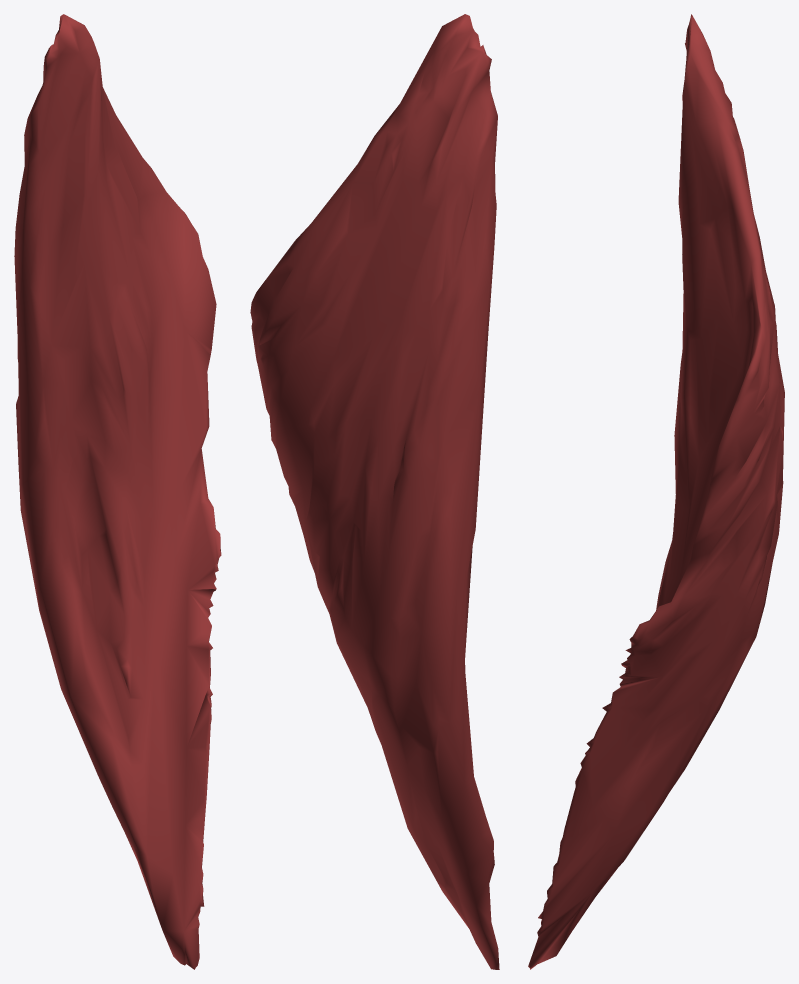
Rendered from anconeus-muscle-r.glb.
3 views of the same model, side by side, from view 1: azimuth 30°, elevation 25°; view 2: azimuth 150°, elevation 25°; view 3: azimuth 270°, elevation 25° (orthographic). The views are drawn at different scales.
Visible parts, largest first — view 1: Anconeus muscle.r; view 2: Anconeus muscle.r; view 3: Anconeus muscle.r.
Part boxes in pixels (<box>): Anconeus muscle.r: <box>14,14,221,969</box>; Anconeus muscle.r: <box>250,14,499,969</box>; Anconeus muscle.r: <box>528,14,784,969</box>.
Bounding box in the file's own units: 0.0238 × 0.1046 × 0.0262.
